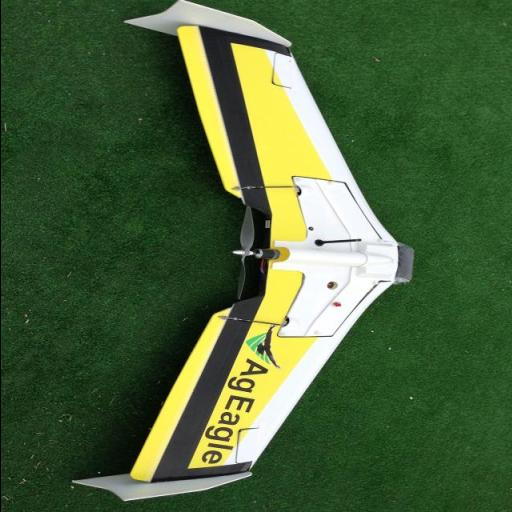uav: (70, 5, 424, 507)
